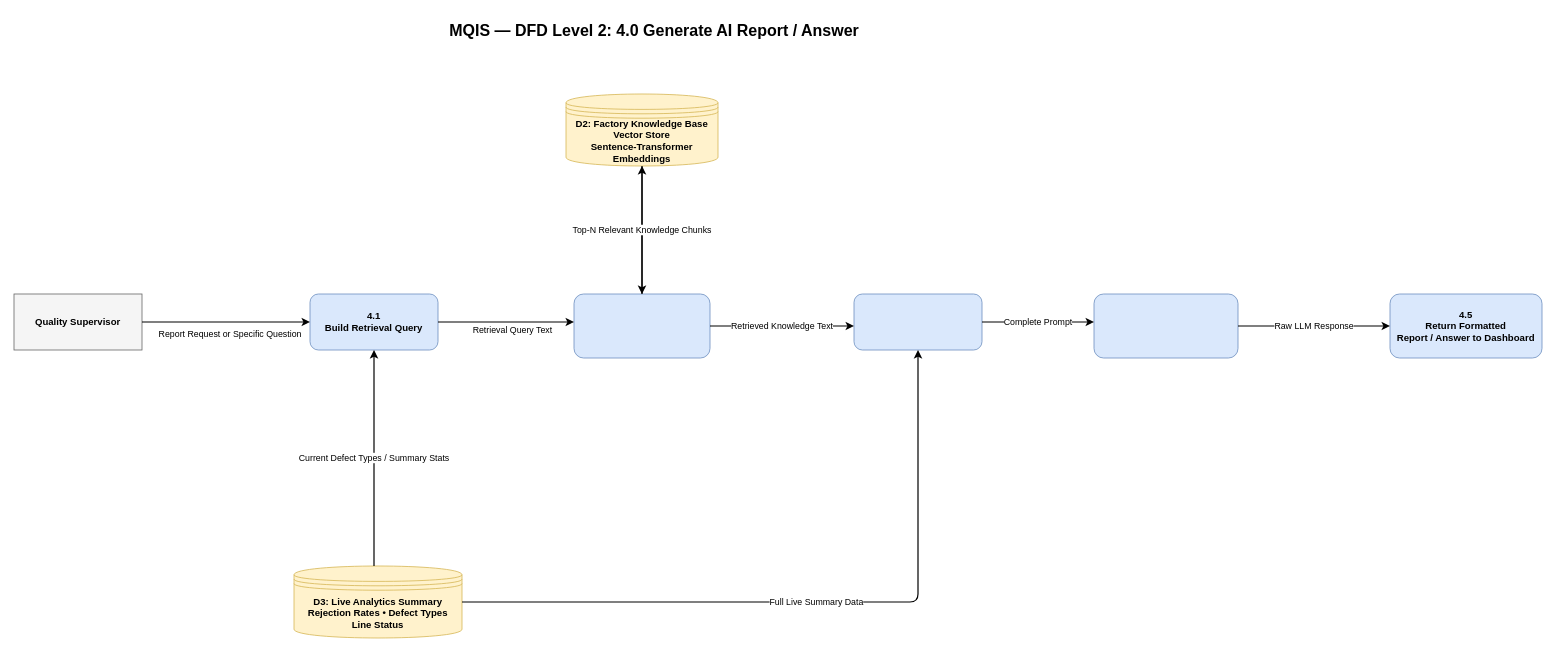
This 1556x652 diagram has some shape labels left out. Each missing label, with the centre of its shape:
"4.2 Embed Query & Retrieve Relevant Knowledge" belongs at point 641,325.
"4.3 Construct LLM Prompt" belongs at point 917,321.
"4.4 Query Local LLM (Llama 3.2 via Ollama)" belongs at point 1165,325.
